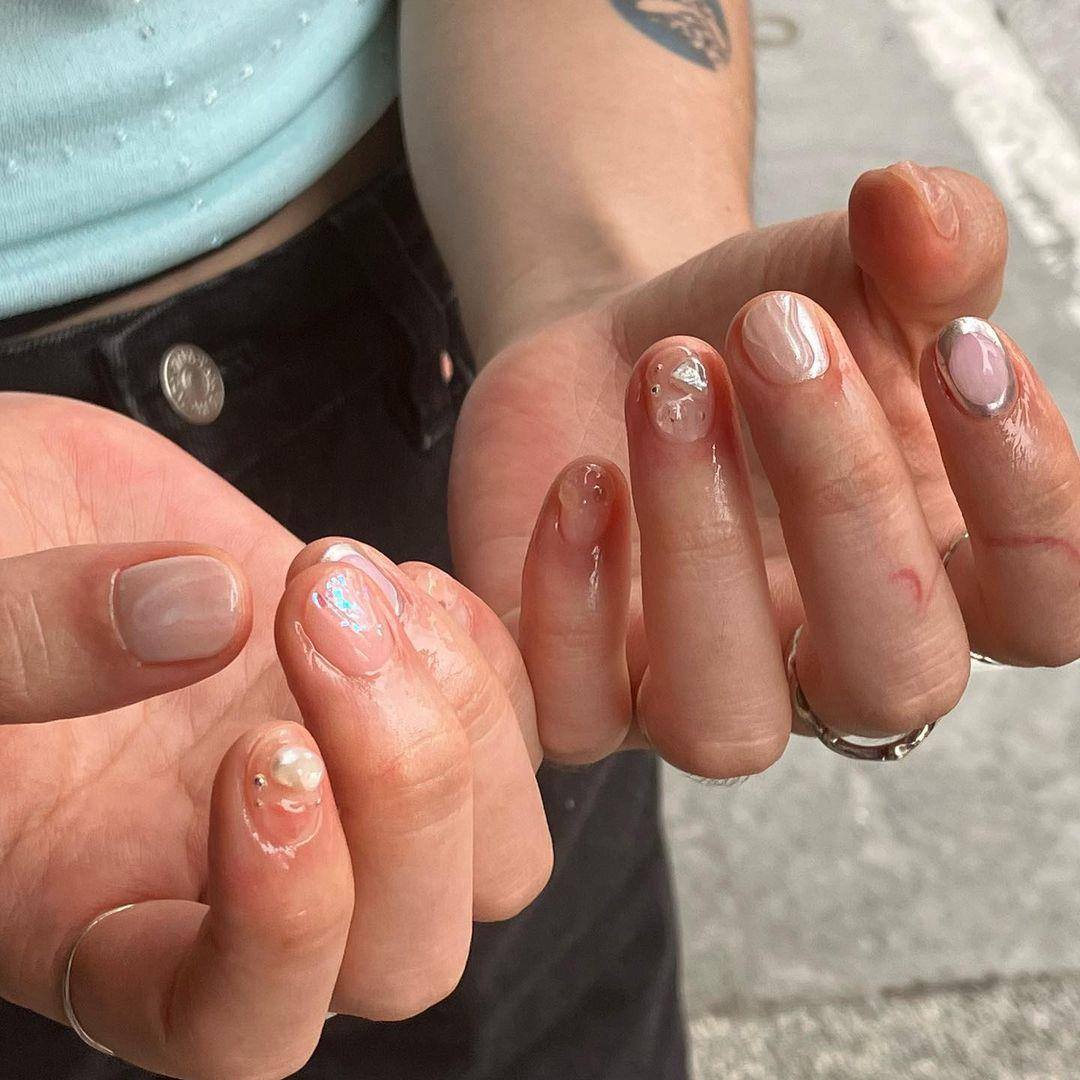nail: (108, 551, 247, 665), (299, 563, 396, 678), (242, 725, 327, 854), (738, 290, 830, 386), (932, 314, 1015, 419), (641, 344, 714, 442), (319, 541, 403, 618)
